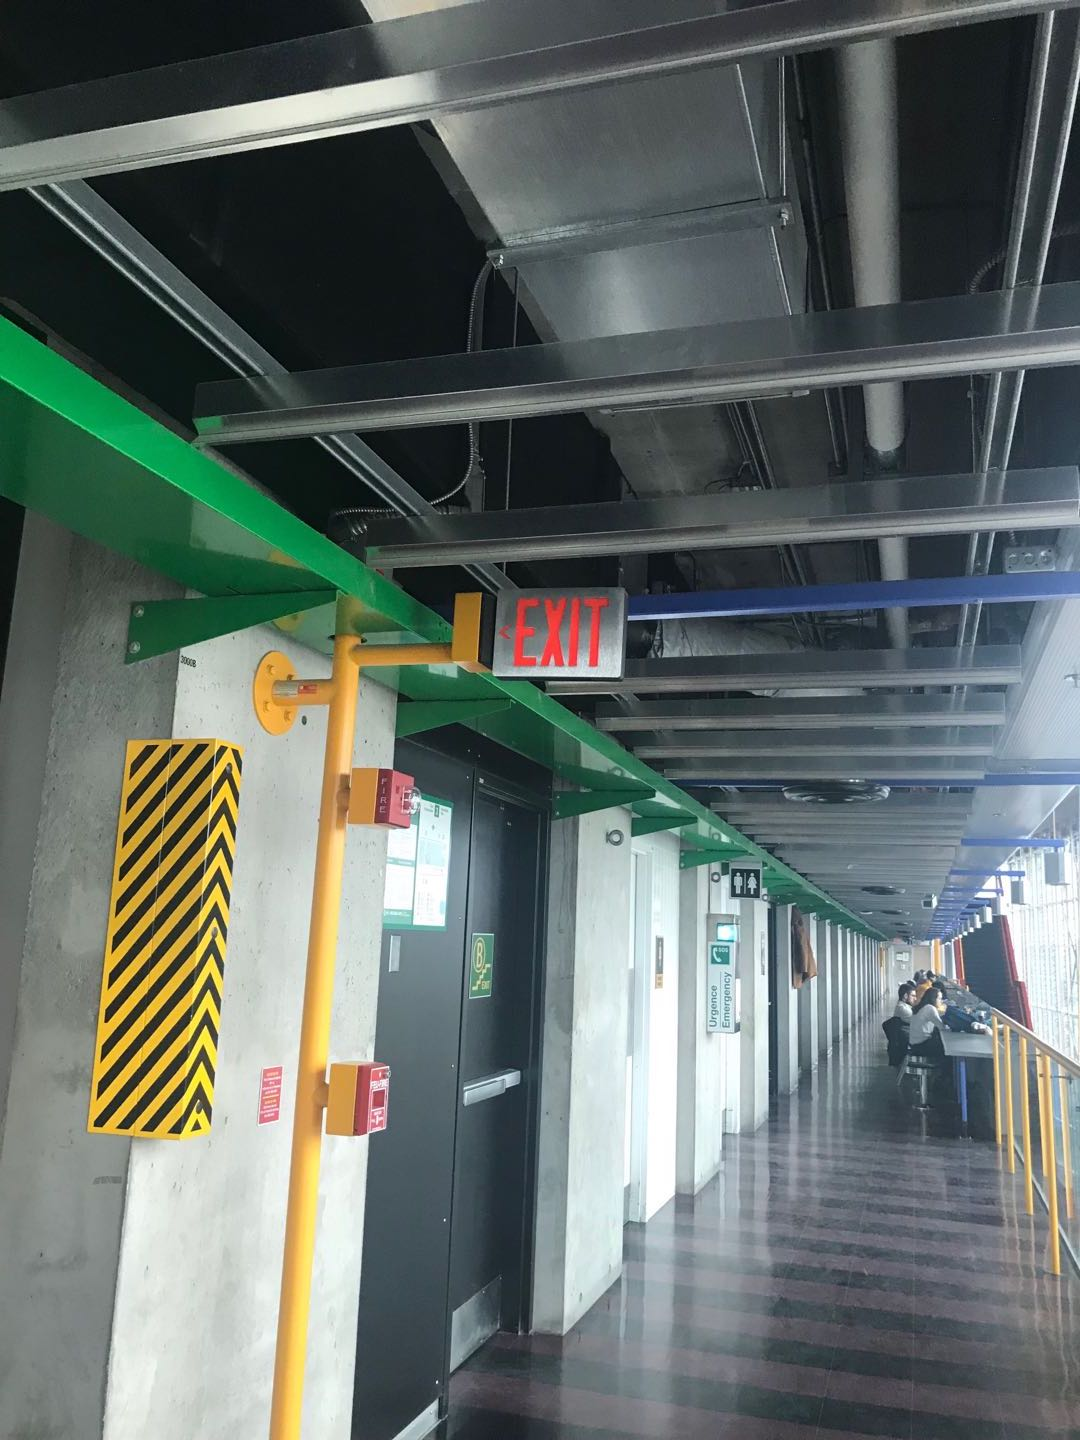door: (449, 790, 541, 1376)
person: (907, 989, 954, 1084)
sign: (494, 588, 625, 675), (388, 792, 451, 931), (472, 932, 498, 997), (260, 1067, 284, 1126), (728, 867, 765, 897), (656, 935, 666, 990)
